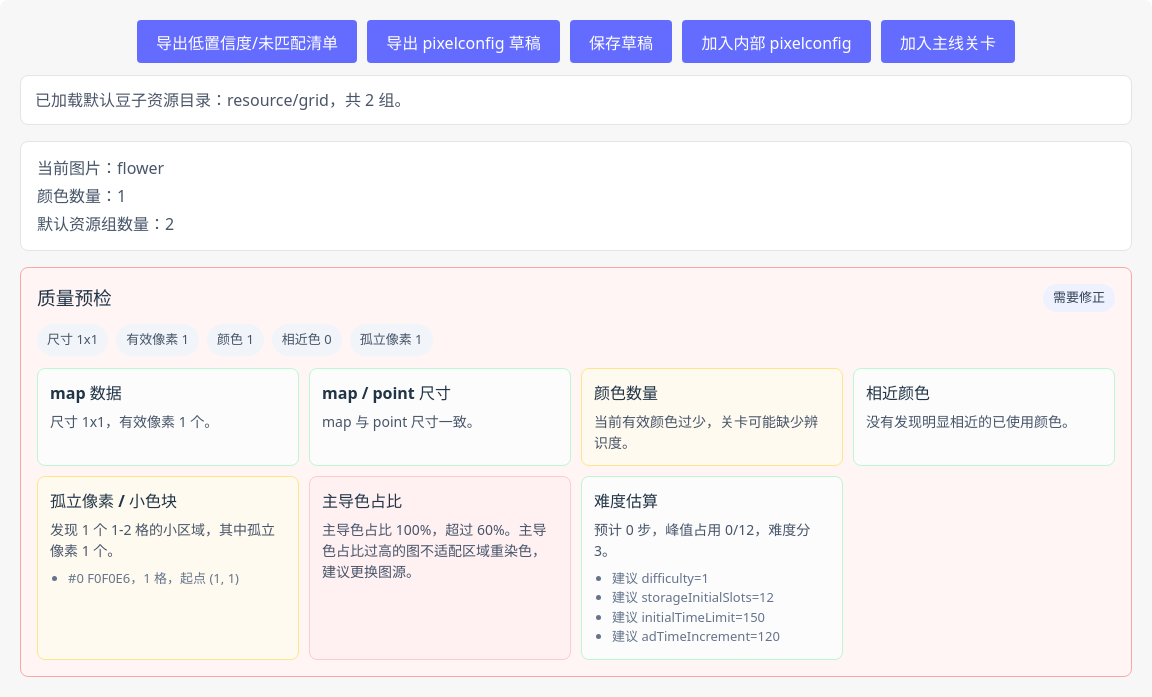
it: LevelProductionPreviewPanel › saves drafts with the next id from internal pixelconfig and saved drafts
What coordinates should you click on to do the following:
click the button "保存草稿"
I would click on:
 (621, 42)
Its box is [570, 20, 672, 63].
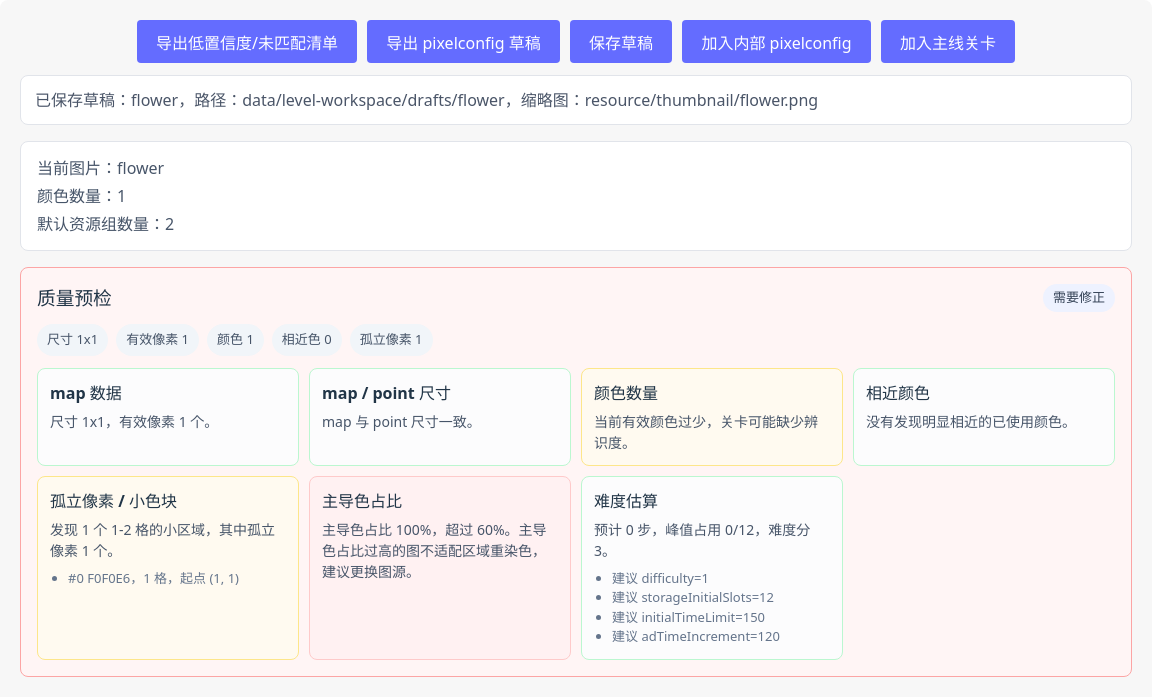
Check: the text "data/level-workspace/drafts/flower" is shown, box [35, 89, 818, 111]
Check: the text "resource/thumbnail/flower.png" is shown, box [35, 89, 818, 111]
